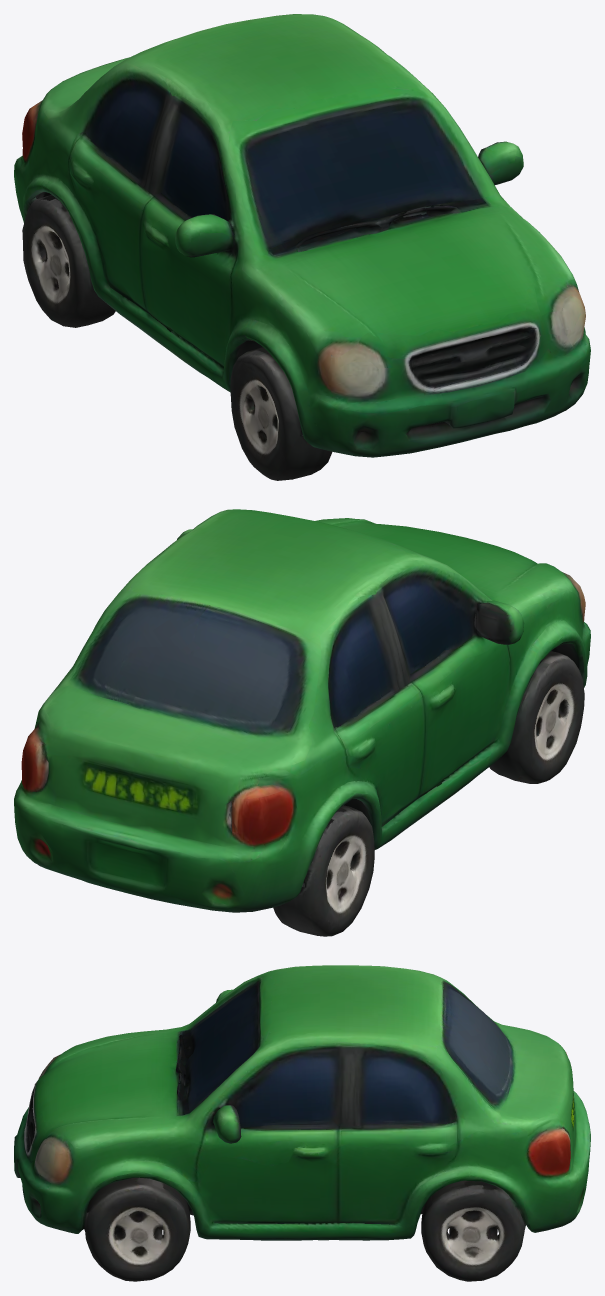
The model's file is bb_car_green.glb.
3 views of the same model, one above another, from view 1: azimuth 30°, elevation 25°; view 2: azimuth 150°, elevation 25°; view 3: azimuth 270°, elevation 25° (orthographic). The views are drawn at different scales.
Bounding box in the file's own units: 0.5512 × 0.4475 × 1.
1 material, 1 textured.
